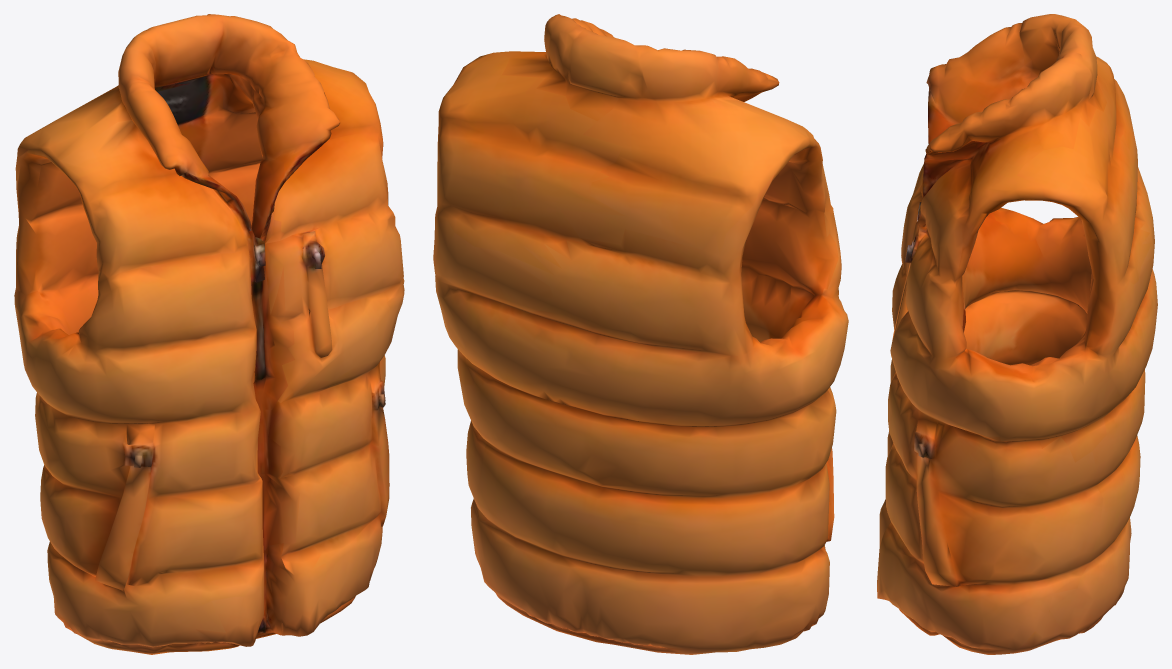
Rendered from card.glb.
The picture shows the model from 3 angles, left to right: view 1: azimuth 30°, elevation 25°; view 2: azimuth 150°, elevation 25°; view 3: azimuth 270°, elevation 25°; orthographic projection. The views are drawn at different scales.
Visible parts, largest first — view 1: model; view 2: model; view 3: model.
Part boxes in pixels (x1,y1,x2,y2): model: (14, 14, 404, 654); model: (433, 14, 848, 654); model: (877, 14, 1157, 654).
Bounding box in the file's own units: 1.3 × 2 × 0.9049.
1 material, 1 textured.
